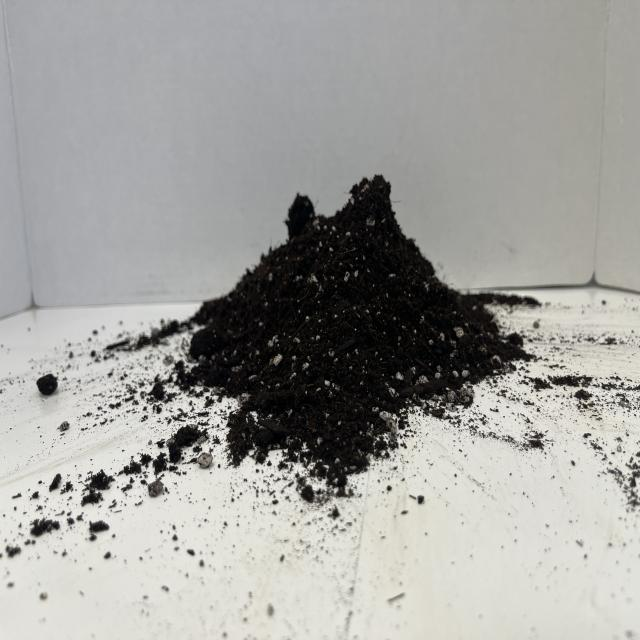soil: (182, 171, 535, 494)
